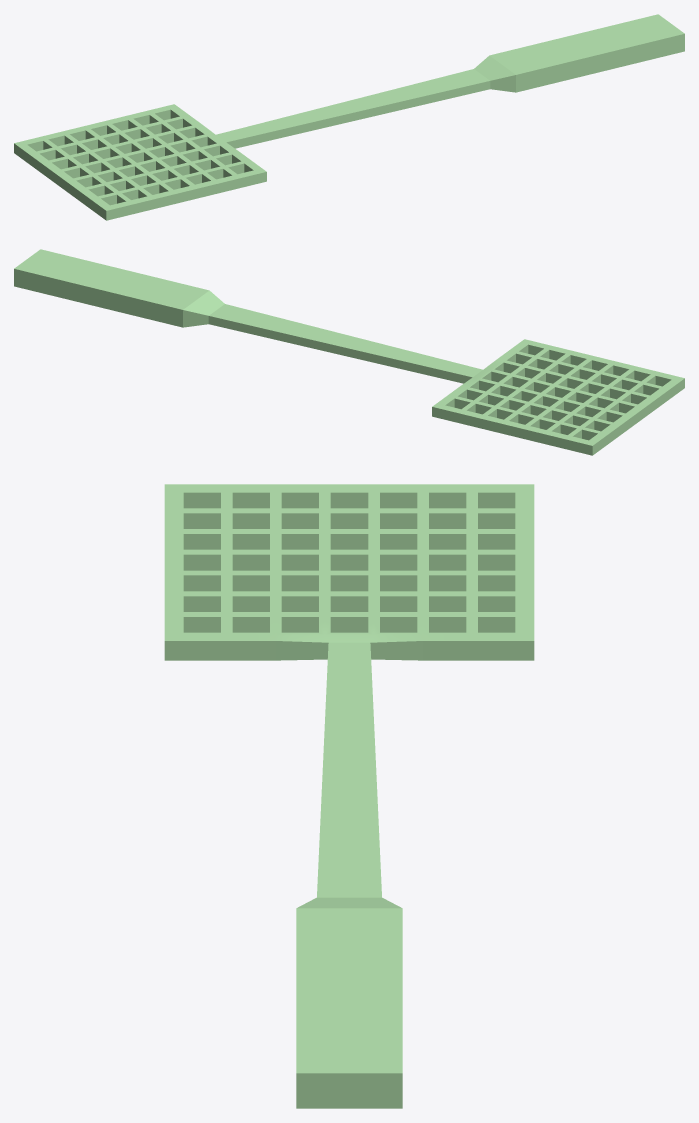
File: Flyswatter FBX.fbx
The picture shows the model from 3 angles, top to bottom: view 1: azimuth 30°, elevation 25°; view 2: azimuth 150°, elevation 25°; view 3: azimuth 270°, elevation 25°; orthographic projection. The views are drawn at different scales.
Parts seen in each view (by area): view 1: Fly_Swatter; view 2: Fly_Swatter; view 3: Fly_Swatter.
Boxes of the visible parts, box(x1,y1,x2,y2) form: Fly_Swatter: box(14, 14, 684, 220); Fly_Swatter: box(14, 249, 684, 455); Fly_Swatter: box(164, 484, 534, 1108).
Bounding box in the file's own units: 150 × 4.15 × 39.3.
